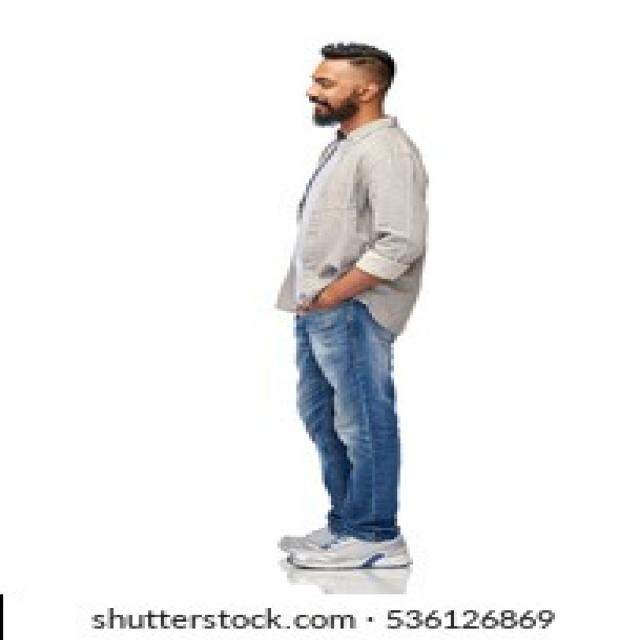standing: (273, 38, 434, 569)
